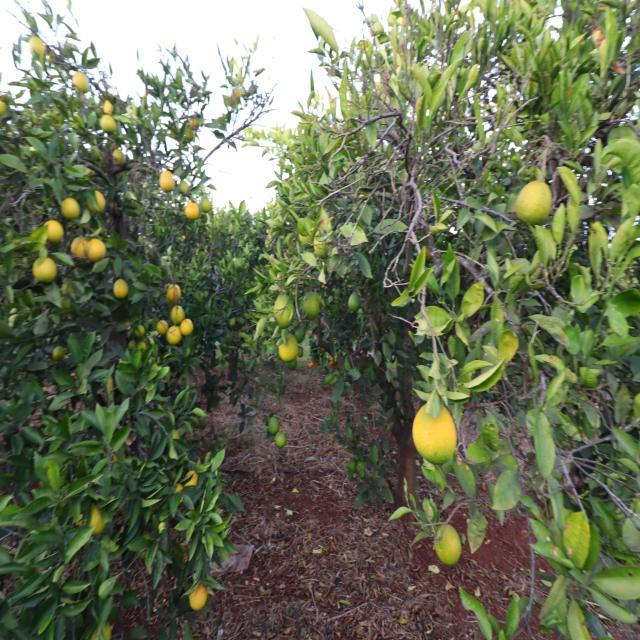Jeruk Belum Matang: (416, 406, 458, 464), (512, 180, 554, 226), (434, 526, 464, 570), (276, 337, 302, 365), (273, 292, 294, 324), (300, 291, 320, 320), (68, 236, 94, 258), (33, 258, 57, 281), (84, 240, 108, 262), (26, 35, 46, 60), (190, 586, 209, 612), (70, 70, 90, 94), (87, 190, 106, 213), (89, 508, 105, 534), (46, 220, 64, 243), (62, 198, 79, 220), (159, 172, 176, 192), (98, 116, 117, 133), (101, 95, 116, 115), (114, 280, 130, 298), (184, 202, 200, 220), (168, 328, 182, 348), (166, 284, 182, 301), (170, 304, 186, 321), (266, 417, 280, 434), (182, 320, 195, 336), (187, 472, 200, 486), (157, 320, 169, 335), (202, 198, 212, 212)
